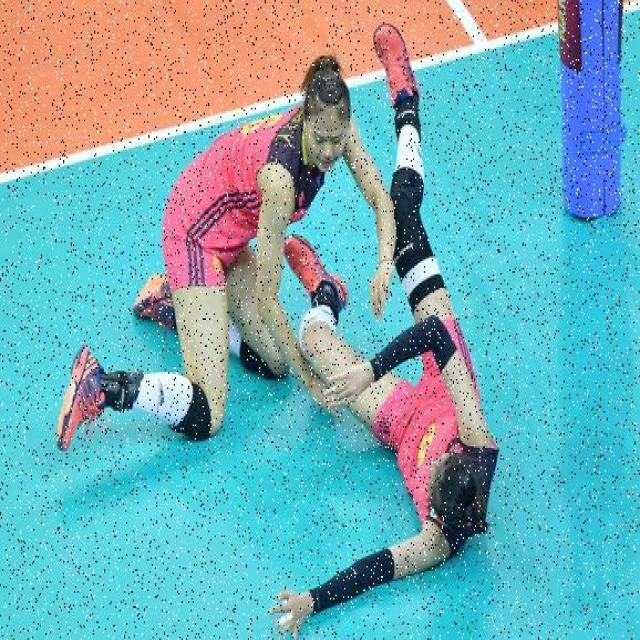fall: (312, 276, 492, 601)
